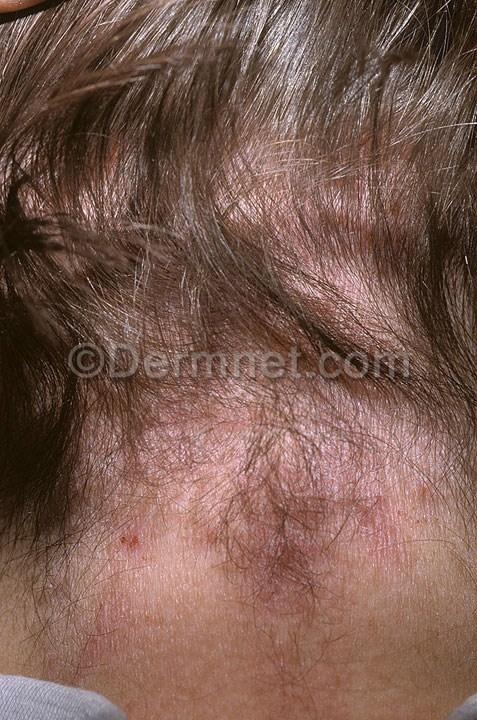Eczema: (66, 397, 428, 665), (64, 144, 415, 343)
